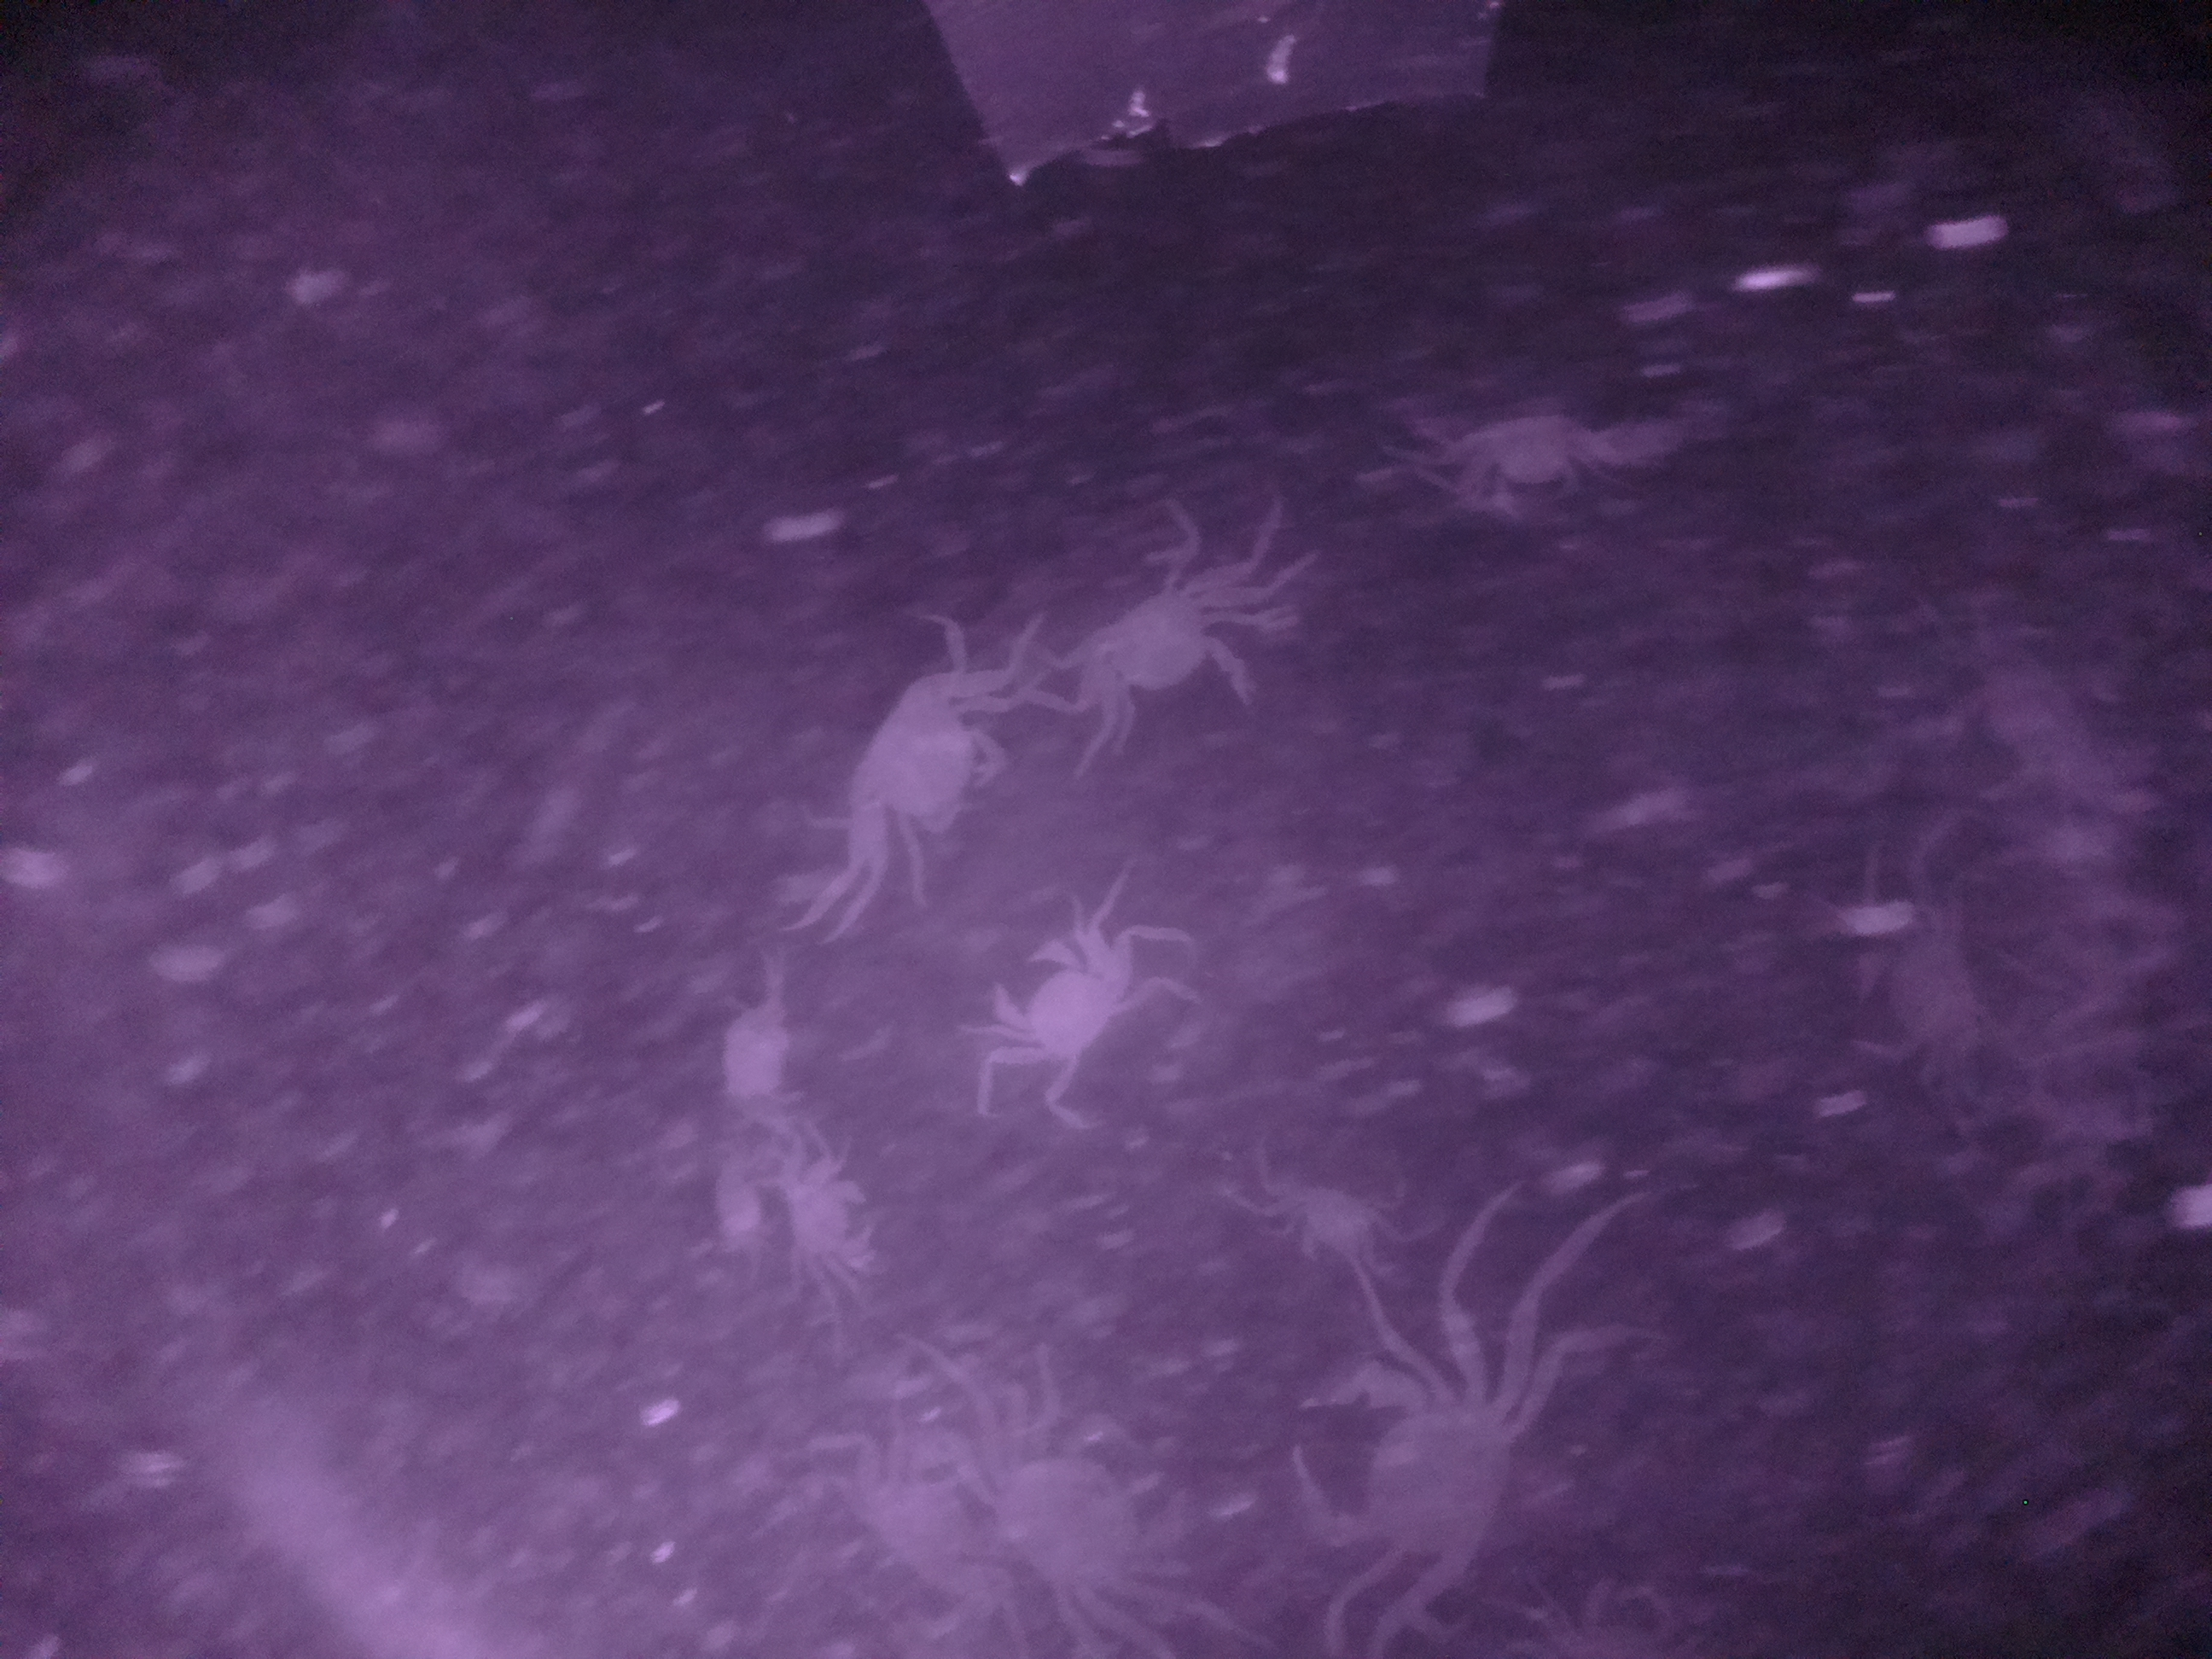Crab: (1271, 1317, 1541, 1595), (1059, 556, 1266, 760), (840, 645, 1010, 871), (970, 899, 1137, 1100), (759, 1121, 897, 1298)
